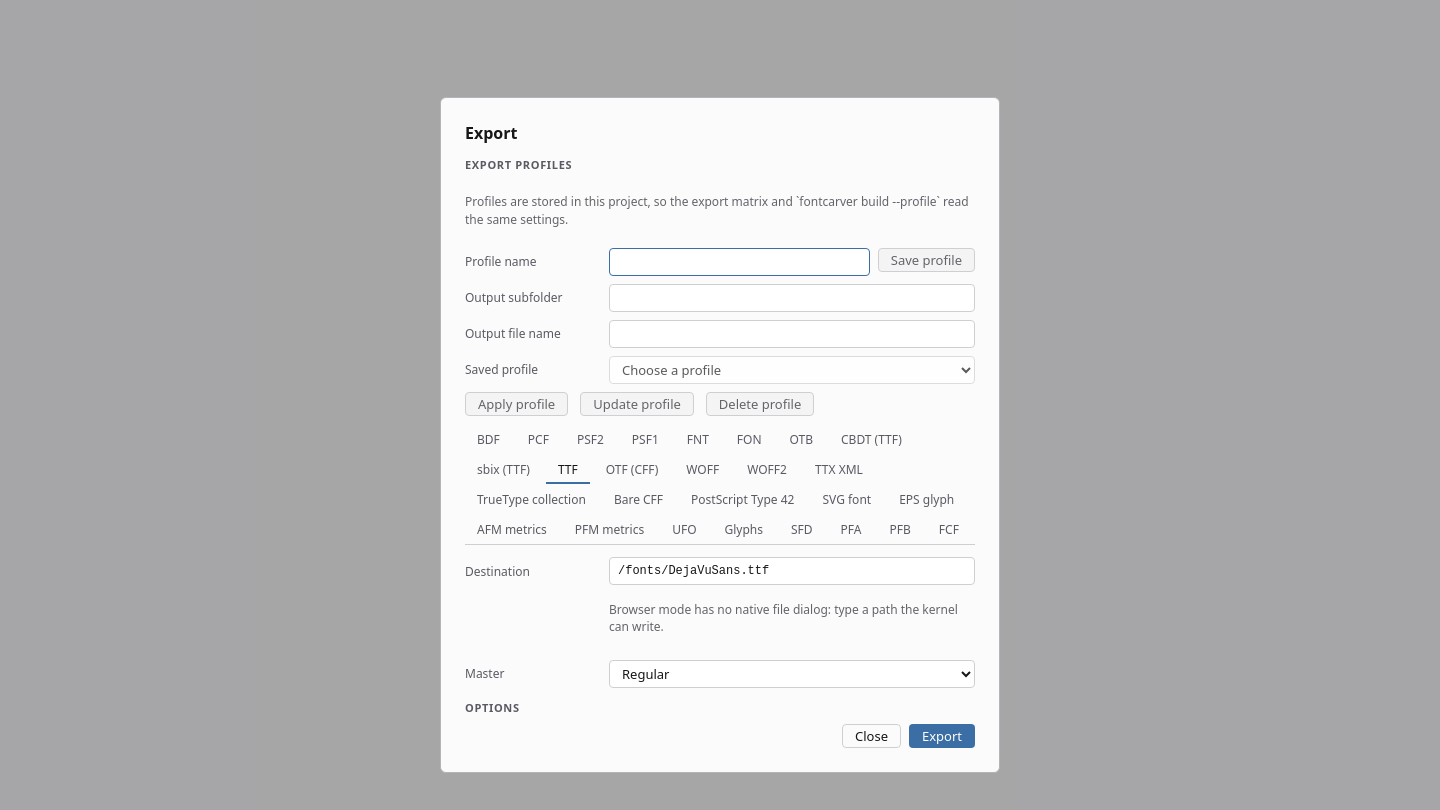
Test case: ExportDialog › discloses Type 1 loss before exporting PFA
The image size is (1440, 810).
Click the tab "PFA": x=851, y=531 [829,518,874,544]
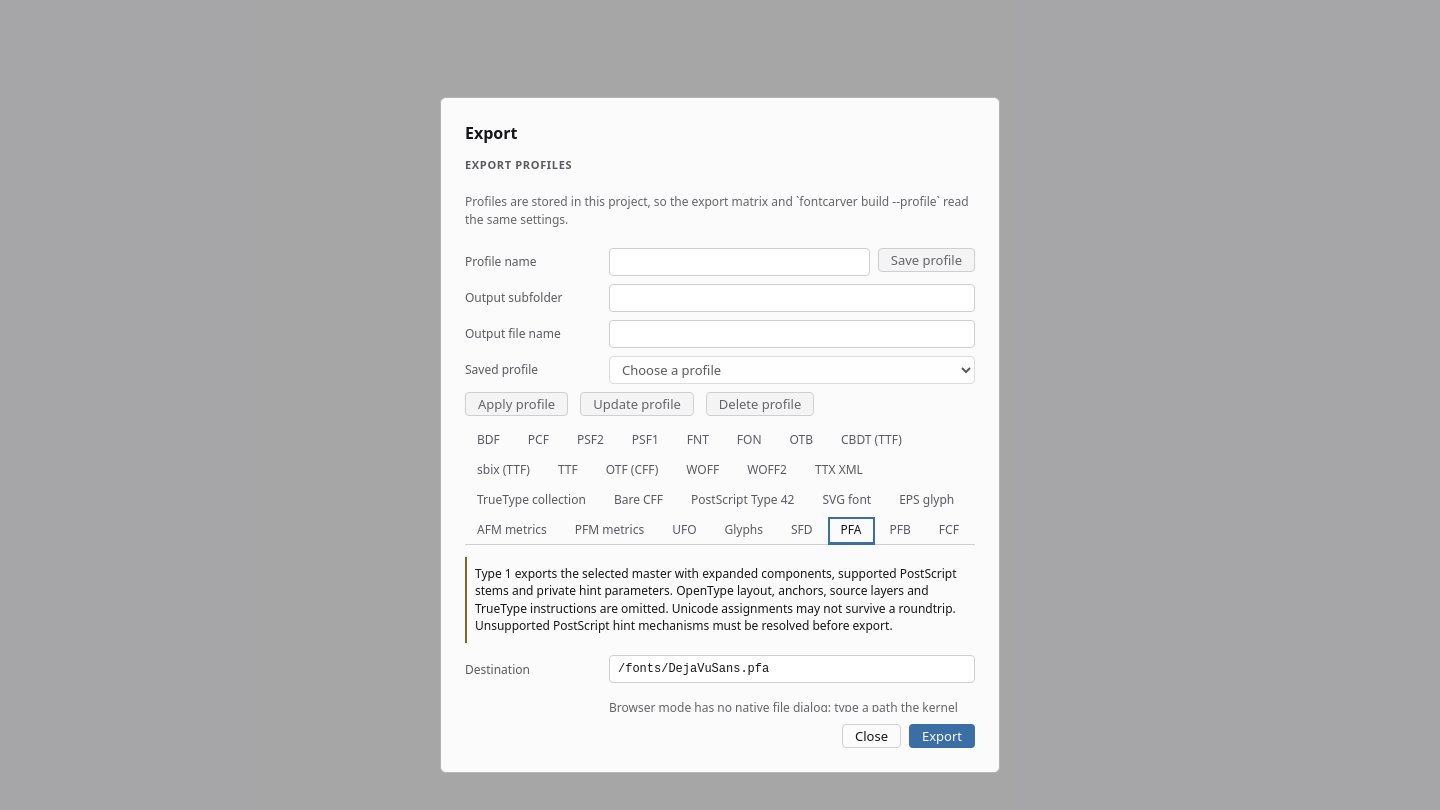
Check: the text "OpenType layout, anchors, source layers and TrueType instructions are omitted" is shown, box [475,565,956,634]
